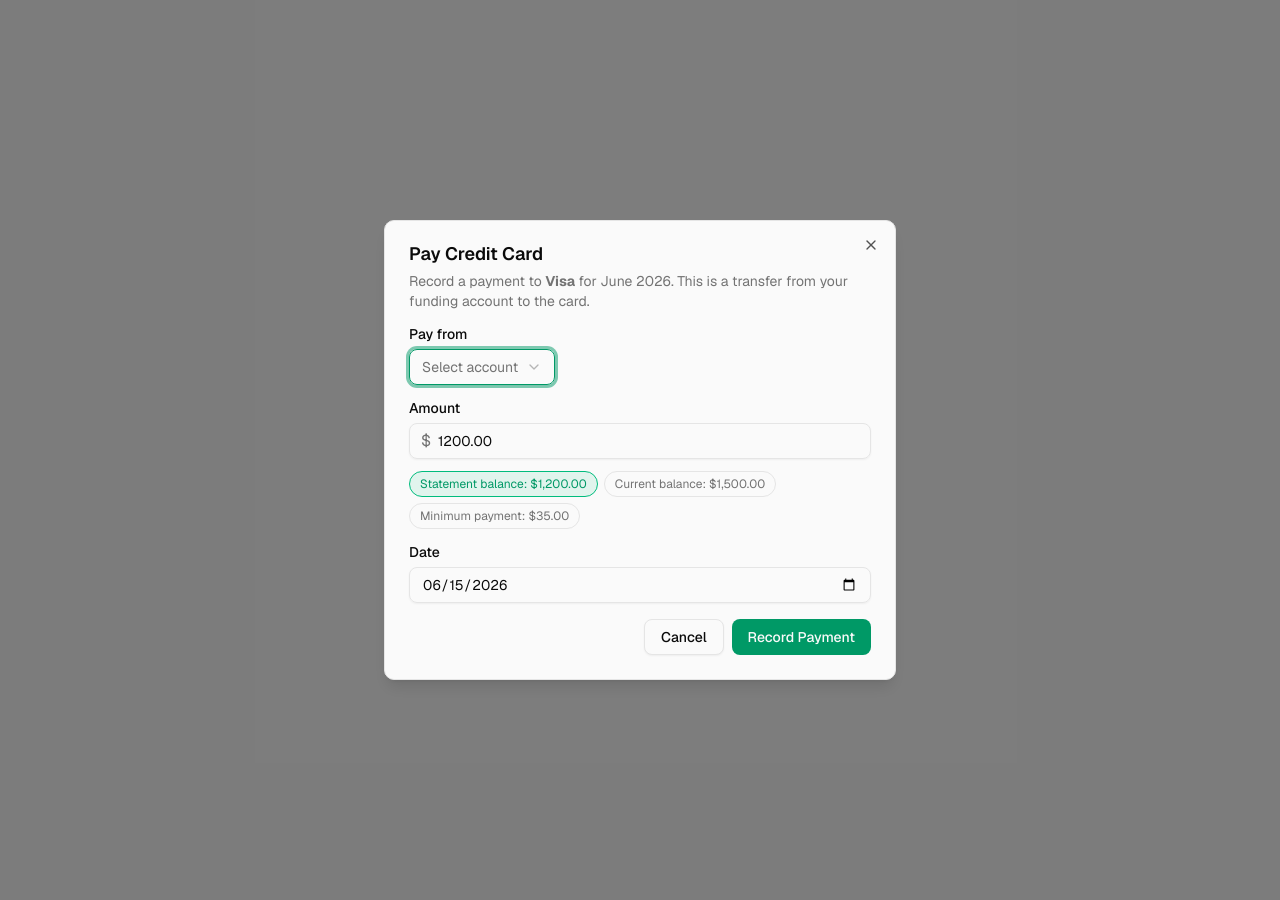
Scenario: CreditCardPaymentDialog › warns and relabels the action when the amount exceeds the balance owed
Replace the text in the number field labelled "Amount" with "2000": {"x": 640, "y": 441} left=409, top=423, right=871, bottom=459
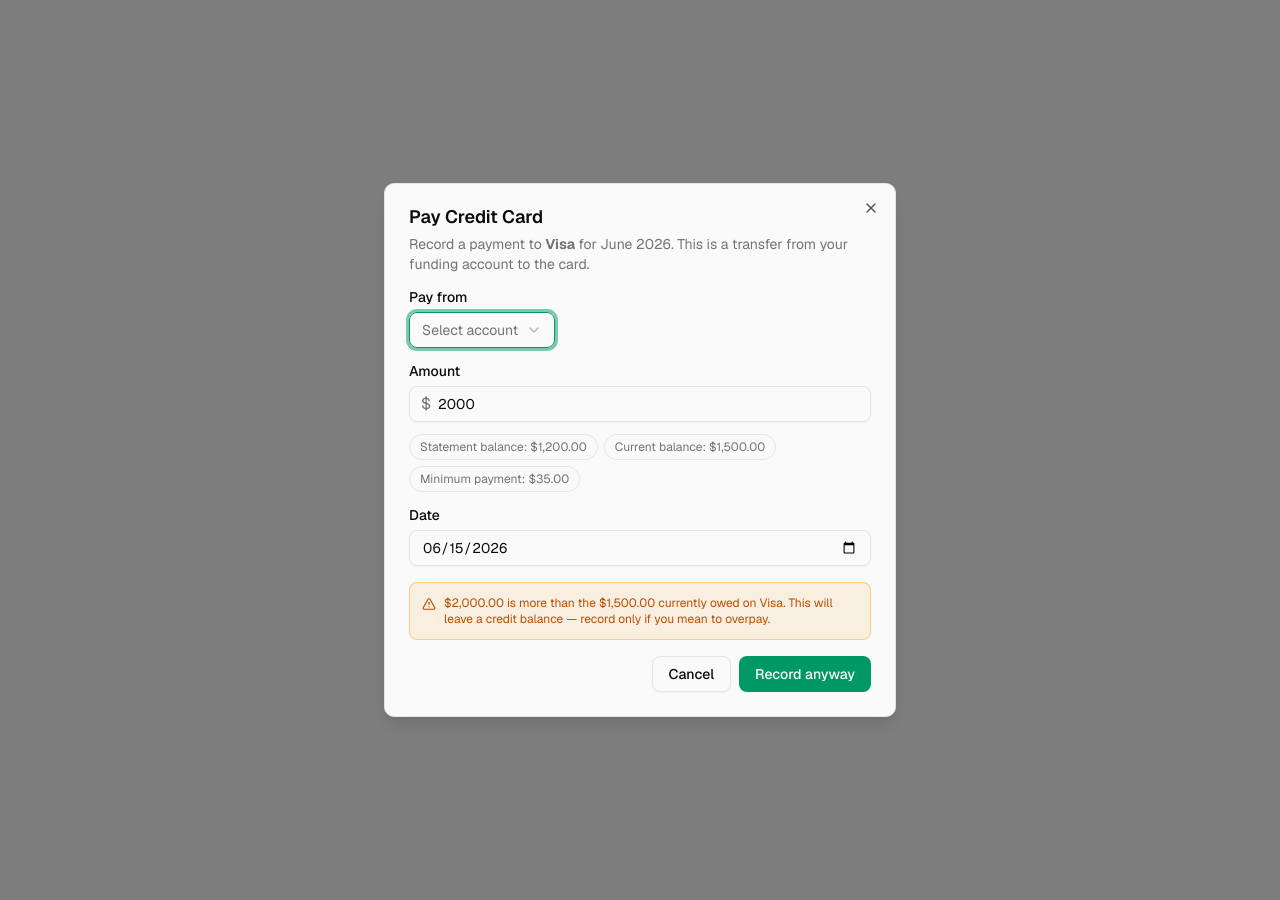
Expected: the text "leave a credit balance" is shown, left=444, top=595, right=833, bottom=627
Expected: the button "Record anyway" is shown, left=739, top=656, right=871, bottom=692
Expected: the button "Record Payment" is gone
